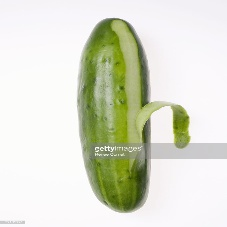cucumber: (78, 17, 153, 217)
